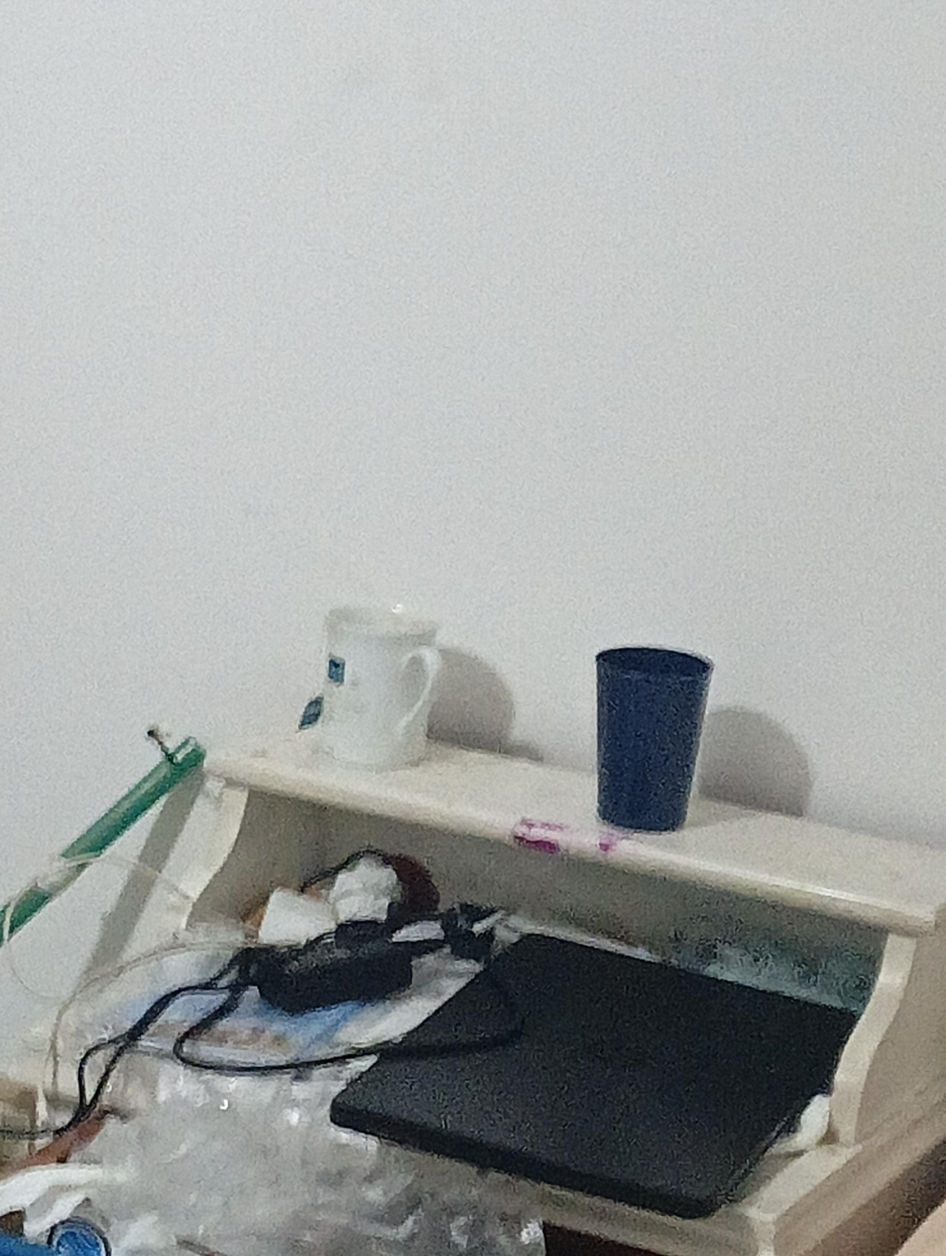cup: (597, 647, 712, 831), (319, 607, 440, 769)
